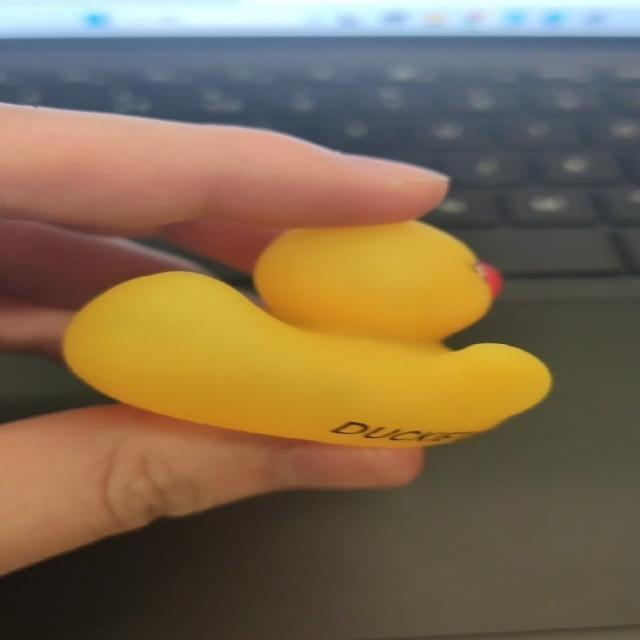rubber-duck: (63, 220, 549, 445)
